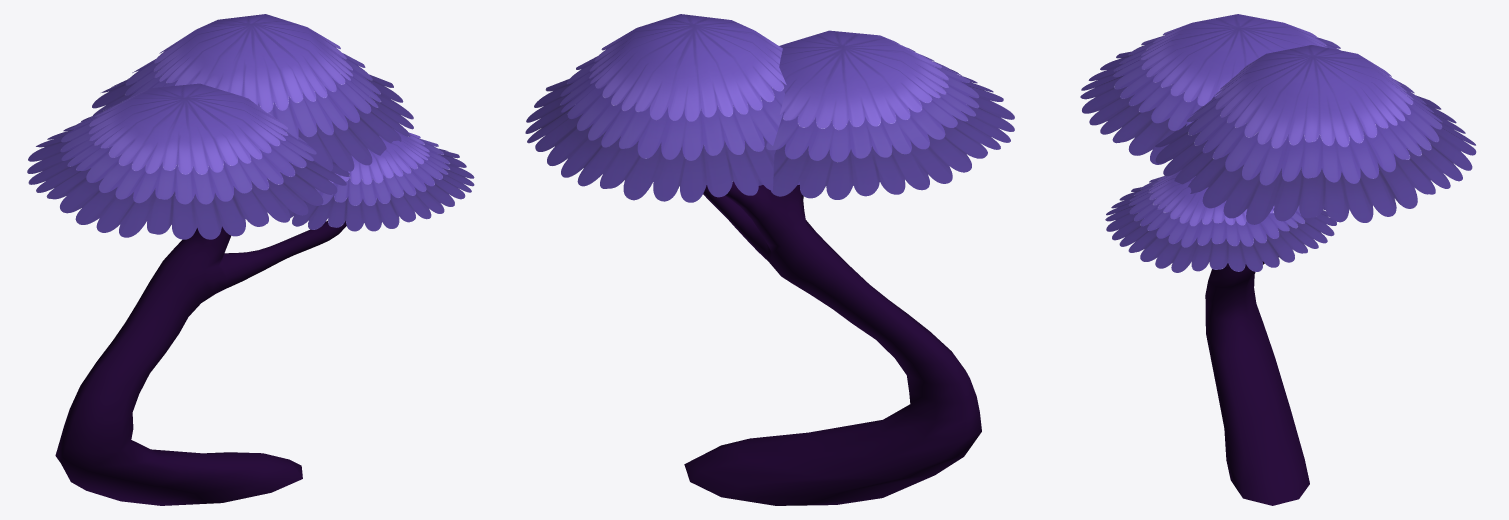
Rendered from Tree02_3.fbx.
3 views of the same model, side by side, from view 1: azimuth 30°, elevation 25°; view 2: azimuth 150°, elevation 25°; view 3: azimuth 270°, elevation 25° (orthographic). The views are drawn at different scales.
Visible parts, largest first — view 1: Plane.178, Circle.006, Circle.008, Circle.460, Circle.007, Circle.004, Circle.012, Circle.003, Circle.011, Circle.010; view 2: Plane.178, Circle.460, Circle.006, Circle.004, Circle.008, Circle.003, Circle.007; view 3: Plane.178, Circle.460, Circle.004, Circle.003, Circle.006, Circle.012, Circle.008, Circle.011, Circle.007, Circle.010.
Part boxes in pixels (box(x1,y1,x2,y2)): Plane.178: box(55, 220, 346, 505); Circle.006: box(88, 83, 288, 174); Circle.008: box(27, 116, 350, 239); Circle.460: box(153, 14, 352, 112); Circle.007: box(60, 100, 316, 204); Circle.004: box(92, 74, 413, 171); Circle.012: box(287, 148, 474, 231); Circle.003: box(124, 53, 381, 139); Circle.011: box(315, 138, 450, 205); Circle.010: box(329, 128, 429, 184); Plane.178: box(684, 181, 981, 505); Circle.460: box(589, 14, 786, 121); Circle.006: box(779, 30, 948, 130); Circle.004: box(525, 79, 799, 202); Circle.008: box(733, 68, 1014, 199); Circle.003: box(560, 56, 784, 160); Circle.007: box(766, 48, 979, 162); Plane.178: box(1205, 256, 1309, 505); Circle.460: box(1215, 45, 1413, 148); Circle.004: box(1155, 95, 1476, 224); Circle.003: box(1187, 79, 1442, 185); Circle.006: box(1140, 14, 1327, 106); Circle.012: box(1105, 187, 1336, 272); Circle.008: box(1080, 51, 1175, 164); Circle.011: box(1128, 176, 1304, 247); Circle.007: box(1113, 36, 1340, 130); Circle.010: box(1148, 170, 1274, 226).
Size of the model in its own units: 19.15 by 18.16 by 16.46.
4 materials, 3 textured.
